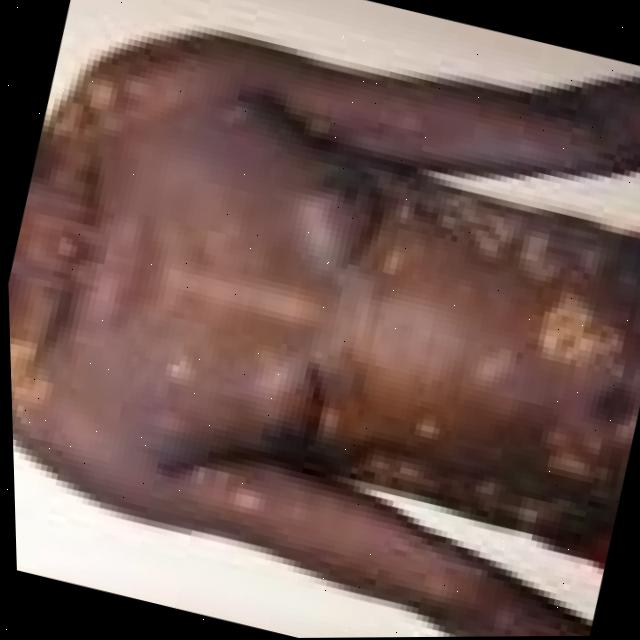Melasma: (401, 201, 640, 551), (62, 57, 162, 157), (10, 343, 86, 435)
